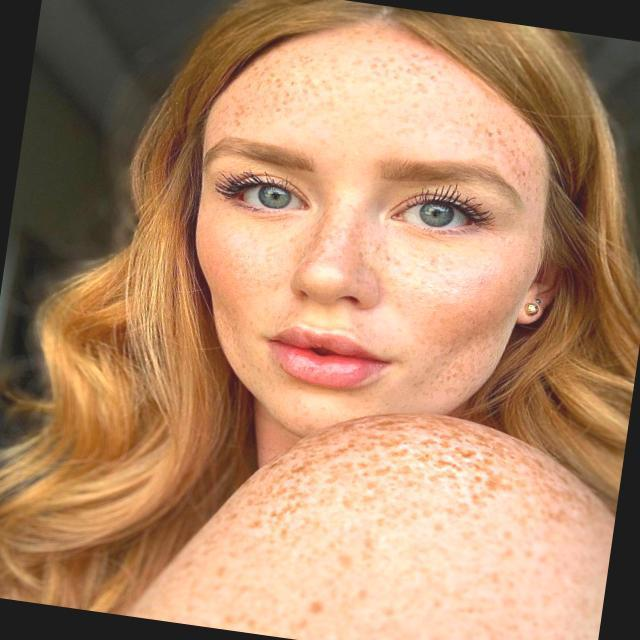freckle: (171, 388, 622, 640), (201, 14, 568, 196), (208, 200, 521, 398)
